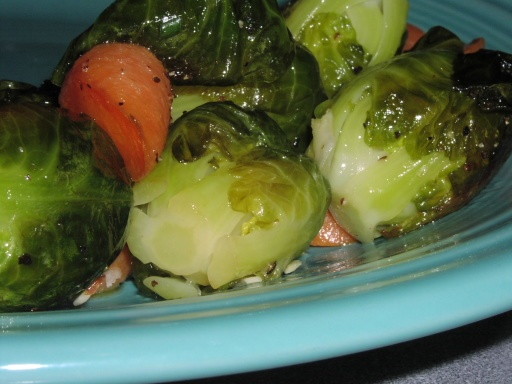background: (0, 0, 410, 187)
